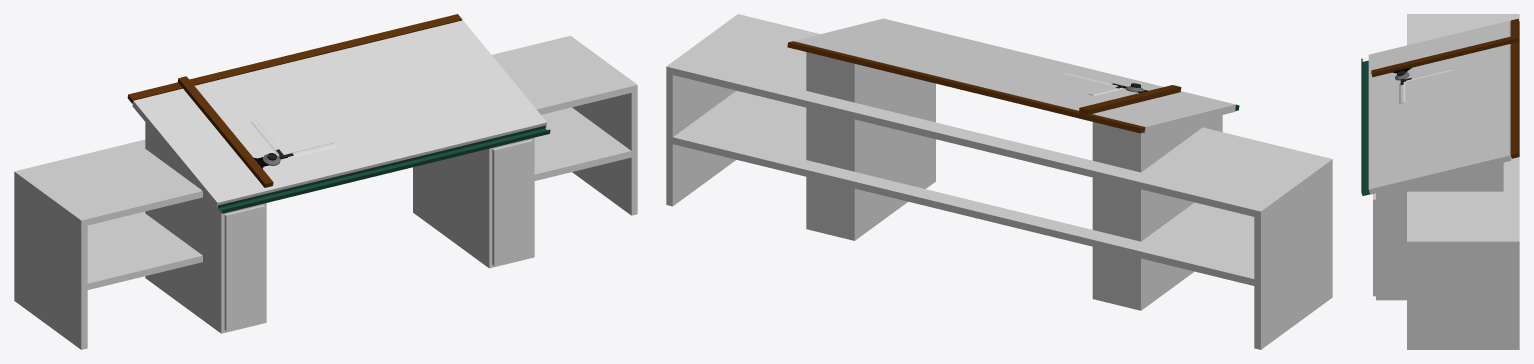
Rendered from drawing lab.fbx.
3 views of the same model, side by side, from view 1: azimuth 30°, elevation 25°; view 2: azimuth 150°, elevation 25°; view 3: azimuth 270°, elevation 25° (orthographic). The views are drawn at different scales.
Visible parts, largest first — view 1: Group4, Group7, Group1, Group3, Group2, Group6, Group5; view 2: Group7, Group3, Group4, Group1, Group6, Group5; view 3: Group7, Group4, Group3, Group6, Group5, Group2, Scale2, Scale1.
Boxes of the visible parts, bbox=[...] form: Group4: bbox=[132, 20, 547, 208]; Group7: bbox=[14, 35, 637, 349]; Group1: bbox=[145, 122, 266, 333]; Group3: bbox=[413, 137, 534, 268]; Group2: bbox=[217, 125, 550, 213]; Group6: bbox=[127, 14, 462, 103]; Group5: bbox=[177, 76, 293, 187]; Group7: bbox=[666, 14, 1332, 349]; Group3: bbox=[806, 52, 935, 240]; Group4: bbox=[794, 18, 1235, 134]; Group1: bbox=[1092, 115, 1222, 310]; Group6: bbox=[787, 41, 1145, 133]; Group5: bbox=[1079, 83, 1181, 114]; Group7: bbox=[1407, 14, 1519, 349]; Group4: bbox=[1368, 20, 1511, 194]; Group3: bbox=[1373, 162, 1503, 300]; Group6: bbox=[1510, 18, 1519, 158]; Group5: bbox=[1371, 35, 1518, 84]; Group2: bbox=[1361, 58, 1369, 195]; Scale2: bbox=[1406, 68, 1452, 81]; Scale1: bbox=[1399, 82, 1405, 103].
Bounding box in the file's own units: 135 × 42.62 × 39.62.
